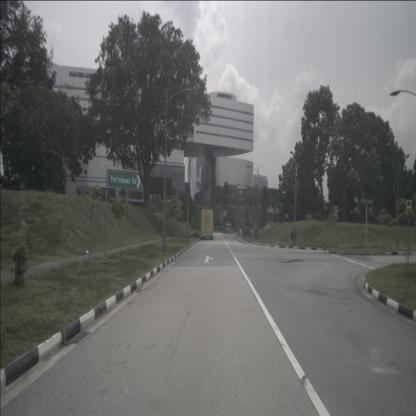vehicle-truck: (201, 208, 214, 240), (224, 222, 232, 234)
